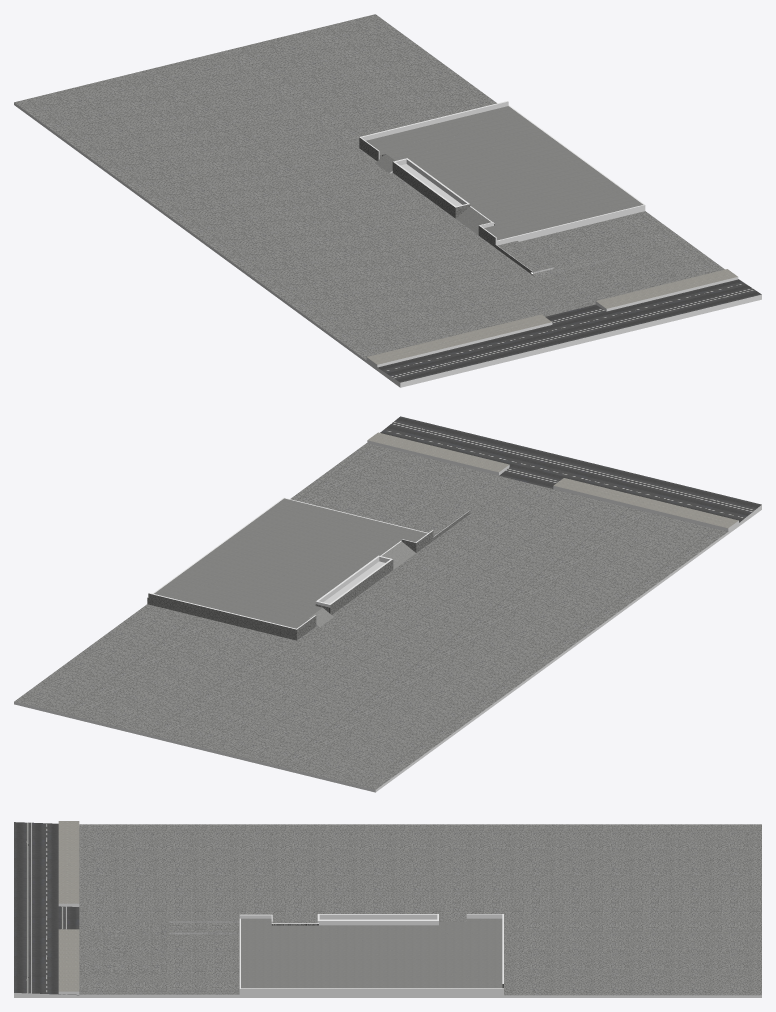
The model's file is Sân trường.dae.
3 renders of one model, top to bottom at view 1: azimuth 30°, elevation 25°; view 2: azimuth 150°, elevation 25°; view 3: azimuth 270°, elevation 25°, orthographic. The views are drawn at different scales.
Parts seen in each view (by area): view 1: Sân trường; view 2: Sân trường; view 3: Sân trường.
Boxes of the visible parts, bbox=[...] form: Sân trường: bbox=[14, 14, 761, 387]; Sân trường: bbox=[14, 416, 761, 792]; Sân trường: bbox=[14, 821, 761, 997].
Size of the model in its own units: 354 by 655 by 12.81.
